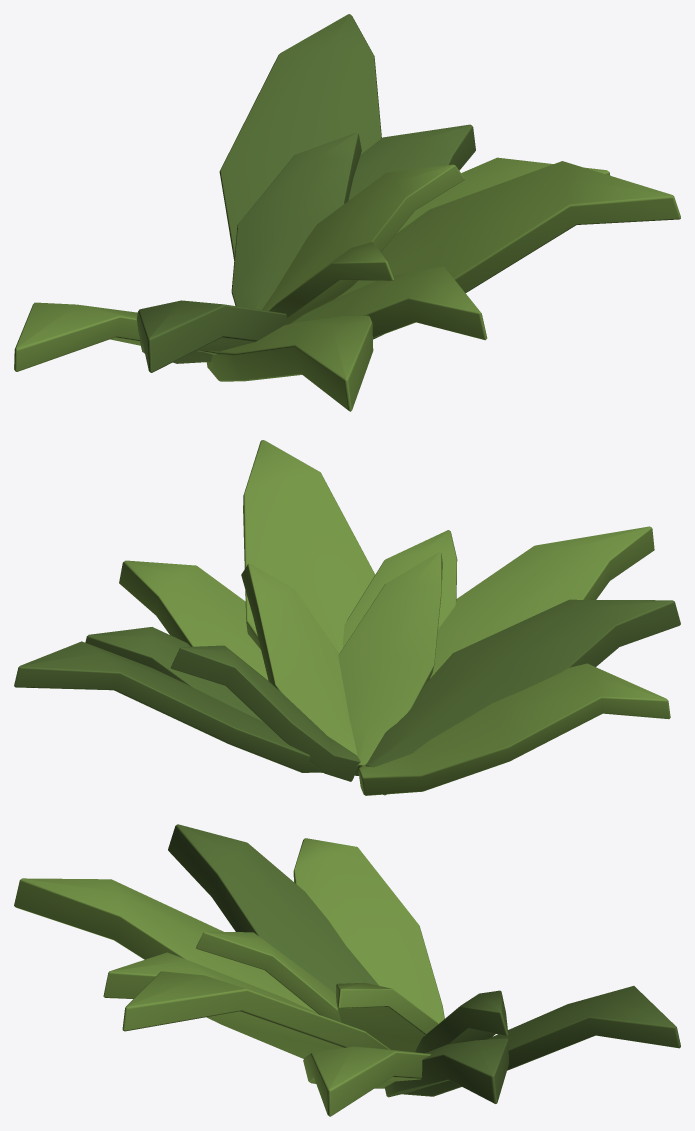
File: grass_soft_arc.glb
3 views of the same model, one above another, from view 1: azimuth 30°, elevation 25°; view 2: azimuth 150°, elevation 25°; view 3: azimuth 270°, elevation 25° (orthographic). The views are drawn at different scales.
Visible parts, largest first — view 1: grass_soft_arc; view 2: grass_soft_arc; view 3: grass_soft_arc.
Part boxes in pixels (x1,y1,x2,y2): grass_soft_arc: (14, 14, 680, 411); grass_soft_arc: (14, 440, 680, 795); grass_soft_arc: (14, 824, 680, 1116).
Size of the model in its own units: 0.3135 by 0.104 by 0.3234.
